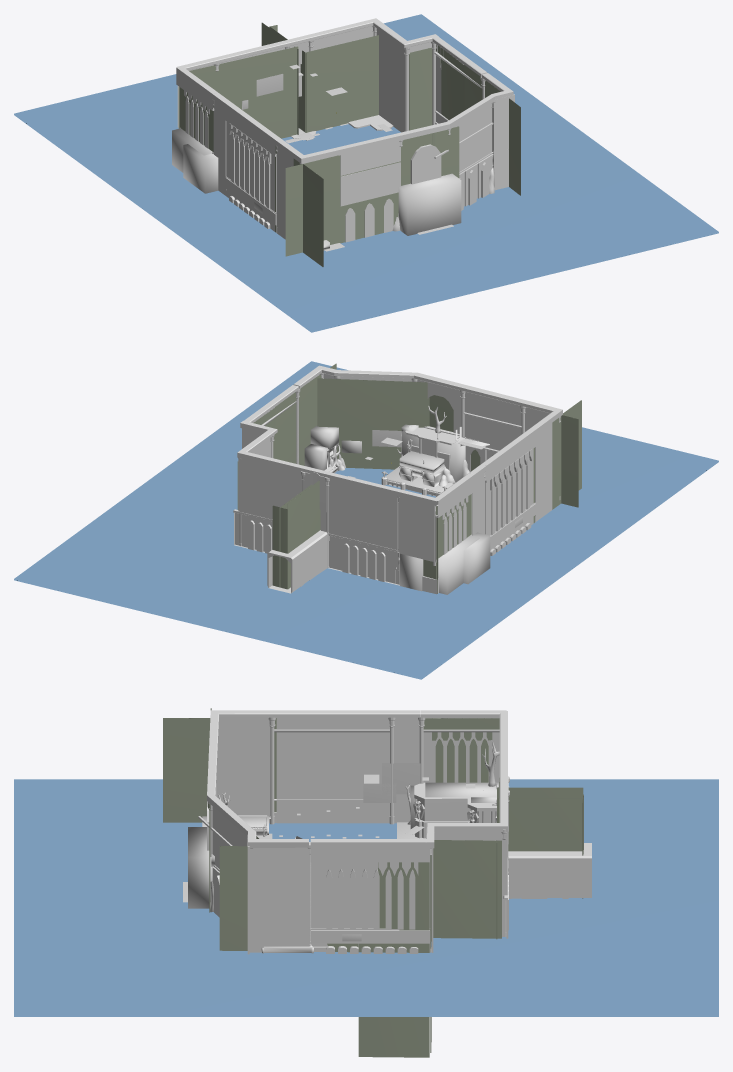
The model's file is level2models.fbx.
3 renders of one model, top to bottom at view 1: azimuth 30°, elevation 25°; view 2: azimuth 150°, elevation 25°; view 3: azimuth 270°, elevation 25°, orthographic. The views are drawn at different scales.
Parts seen in each view (by area): view 1: r__20_, Cube__8__2, Cube__2_, Cube__11__1, Cube.159, r__25__2, Cube.104, Nice wall 2, Cube.127, Cube__9_, Cube__4__1, Cube.098 (+21 smaller); view 2: r__20_, Cube__7_, Cube.068, Cube.159, Cube.092, Cube.158, Cube__6_, Nice wall 1, Cube__8__2, Cube.093, Cube.127, Decorative wall 2 (+20 smaller); view 3: r__20_, Cube.095, Cube__3__1, Cube.102, Cube__5_, Cube.110, Cube.096, Cube__9_, Cube.159, Decorative Wall 1, Cube.068, Cube_1 (+20 smaller).
Boxes of the visible parts, box(x1,y1,x2,y2) form: r__20_: box(14, 14, 718, 332); Cube__8__2: box(285, 126, 459, 256); Cube__2_: box(305, 35, 378, 132); Cube__11__1: box(178, 46, 298, 138); Cube.159: box(177, 18, 513, 163); r__25__2: box(398, 173, 461, 235); Cube.104: box(376, 28, 404, 132); Nice wall 2: box(459, 124, 493, 210); Cube.127: box(225, 121, 276, 212); Cube__9_: box(275, 146, 323, 266); Cube__4__1: box(409, 47, 432, 130); Cube.098: box(340, 162, 400, 206); r__20_: box(14, 361, 718, 679); Cube__7_: box(317, 378, 429, 469); Cube.068: box(234, 472, 399, 593); Cube.159: box(237, 365, 562, 506); Cube.092: box(328, 480, 398, 550); Cube.158: box(238, 458, 302, 519); Cube__6_: box(275, 363, 336, 465); Nice wall 1: box(464, 392, 521, 450); Cube__8__2: box(429, 395, 578, 507); Cube.093: box(399, 497, 435, 561); Cube.127: box(485, 447, 535, 535); Decorative wall 2: box(485, 449, 536, 555); r__20_: box(14, 779, 718, 1016); Cube.095: box(276, 718, 395, 823); Cube__3__1: box(433, 840, 501, 938); Cube.102: box(249, 847, 309, 952); Cube__5_: box(358, 862, 429, 1057); Cube.110: box(311, 862, 430, 929); Cube.096: box(216, 718, 270, 823); Cube__9_: box(163, 718, 276, 822); Cube.159: box(207, 710, 507, 848); Decorative Wall 1: box(310, 839, 430, 930); Cube.068: box(506, 779, 591, 938); Cube_1: box(498, 798, 583, 851).
Bounding box in the file's own units: 60072 × 25672 × 75943.
